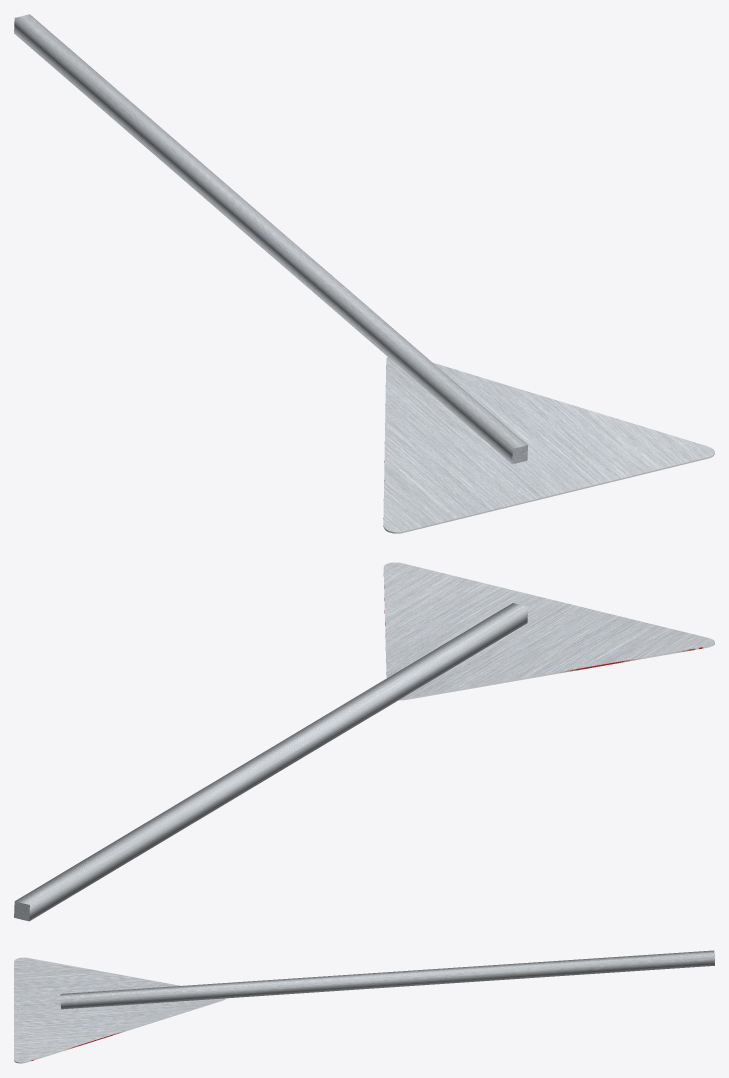
Rendered from sign2.fbx.
3 views of the same model, one above another, from view 1: azimuth 30°, elevation 25°; view 2: azimuth 150°, elevation 25°; view 3: azimuth 270°, elevation 25° (orthographic). The views are drawn at different scales.
Parts seen in each view (by area): view 1: cedeaza; view 2: cedeaza; view 3: cedeaza.
Part boxes in pixels (x1=…): cedeaza: x1=14, y1=14, x2=714, y2=533; cedeaza: x1=14, y1=562, x2=714, y2=921; cedeaza: x1=14, y1=950, x2=714, y2=1063.
Size of the model in its own units: 14.49 by 3.78 by 40.92.
1 material, 1 textured.
